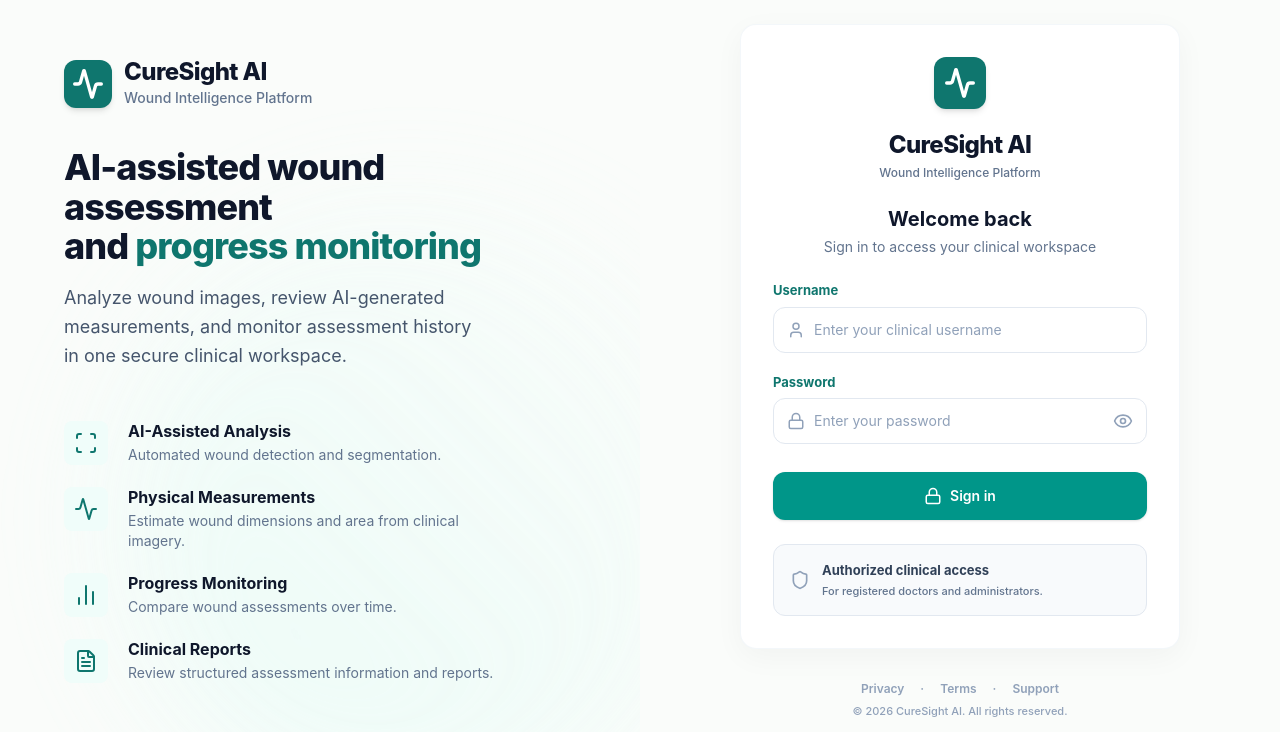
Scenario: Login Flow & Error Handling › 7. Correctly handles network failure (fetch throws TypeError / Failed to fetch)
Type "user" into the field with placeholder "Enter your clinical username" at {"x": 960, "y": 330}, box [773,307,1147,353]
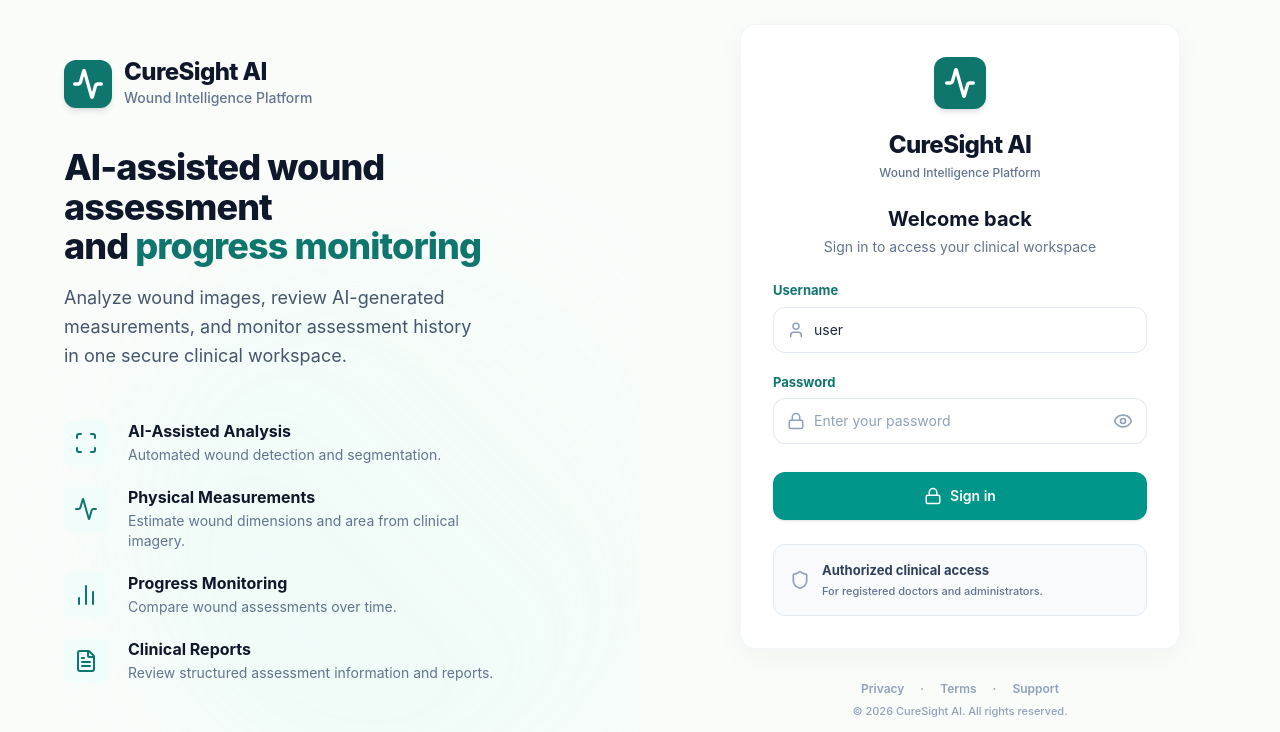
Type "pass" into the password field with placeholder "Enter your password" at {"x": 960, "y": 421}, box [773,398,1147,444]
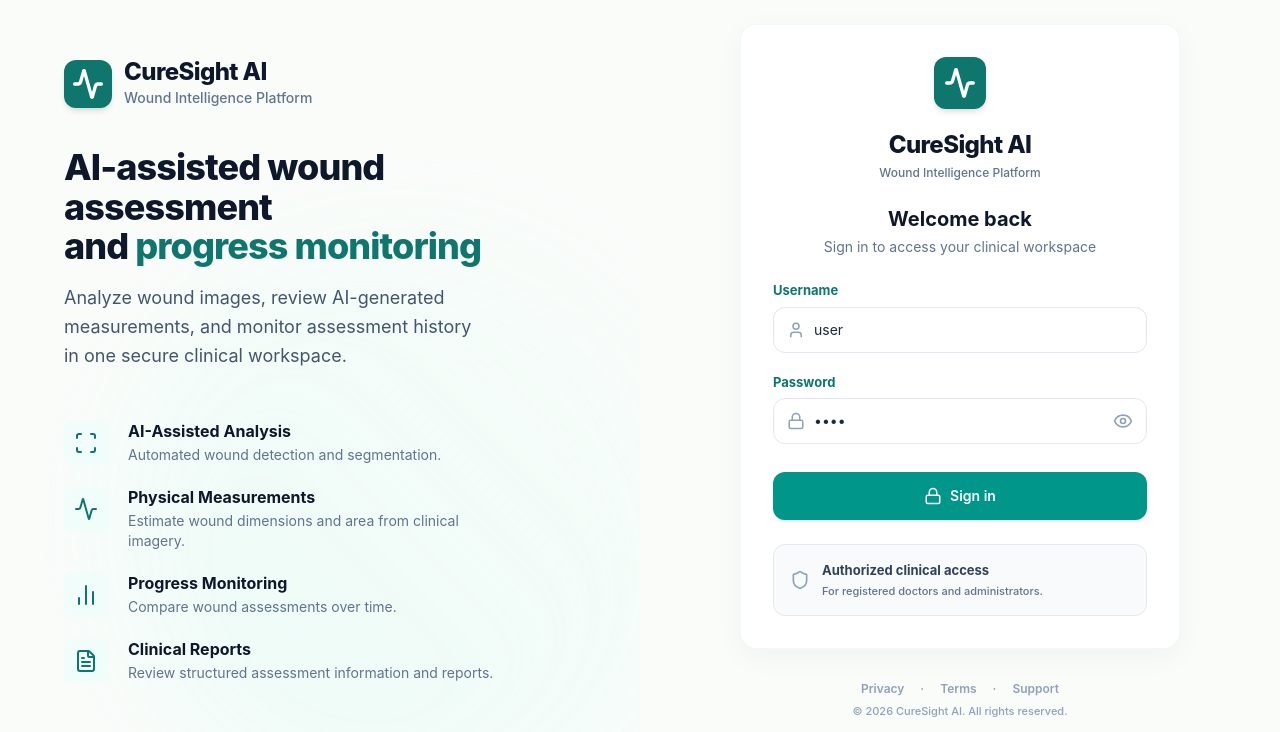
Click the button "Sign in" at {"x": 960, "y": 496}, box [773,472,1147,520]
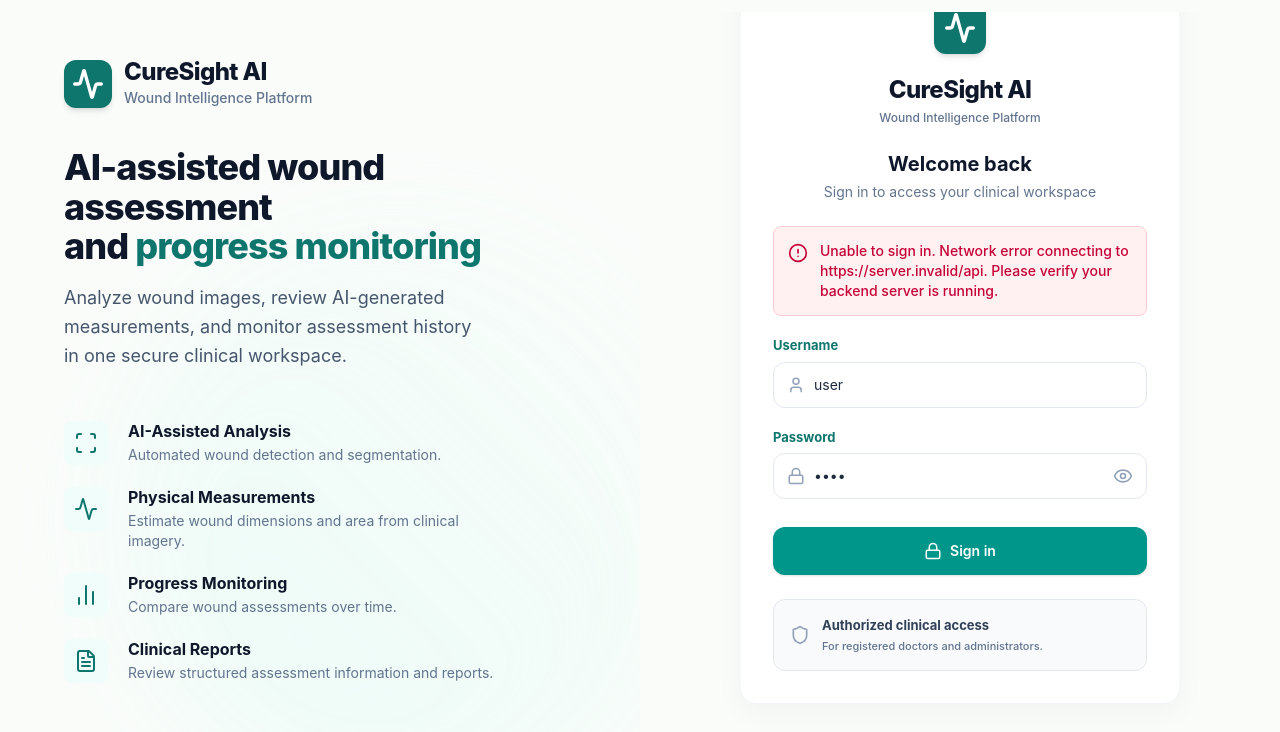
Check: the text "Unable to sign in. Network error" is shown, box [820,242,1129,299]
